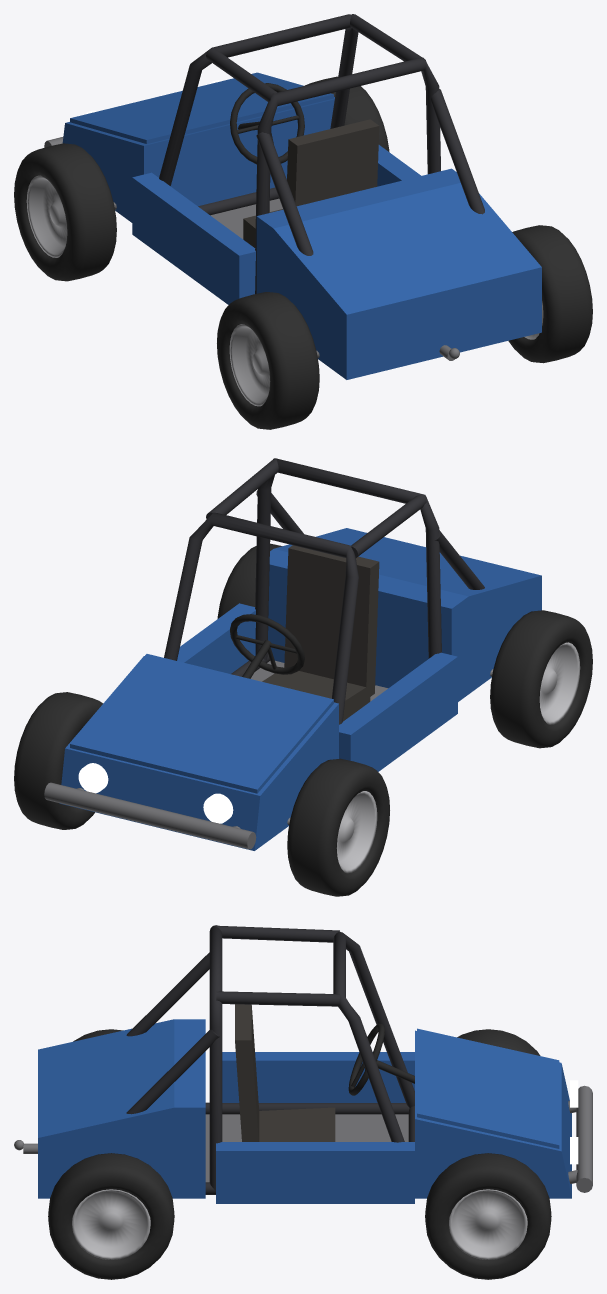
File: buggy.glb
The picture shows the model from 3 angles, top to bottom: view 1: azimuth 30°, elevation 25°; view 2: azimuth 150°, elevation 25°; view 3: azimuth 270°, elevation 25°; orthographic projection. The views are drawn at different scales.
Visible parts, largest first — view 1: carrosserie, chassis, roue_avant_gauche, roue_arriere_gauche, roue_arriere_droite, capot, siege_conducteur, volant, roue_avant_droite; view 2: carrosserie, capot, chassis, siege_conducteur, roue_arriere_gauche, roue_avant_gauche, roue_avant_droite, volant, roue_arriere_droite, phares; view 3: carrosserie, chassis, roue_arriere_droite, roue_avant_droite, capot, siege_conducteur, volant, roue_avant_gauche, phares.
Part boxes in pixels (bbox=[...]): carrosserie: bbox=[62, 97, 541, 379]; chassis: bbox=[44, 14, 484, 360]; roue_avant_gauche: bbox=[14, 143, 116, 281]; roue_arriere_gauche: bbox=[217, 292, 319, 429]; roue_arriere_droite: bbox=[508, 225, 592, 363]; capot: bbox=[70, 72, 333, 143]; siege_conducteur: bbox=[243, 119, 379, 247]; volant: bbox=[230, 83, 304, 164]; roue_avant_droite: bbox=[305, 76, 389, 151]; carrosserie: bbox=[59, 528, 541, 850]; capot: bbox=[70, 654, 333, 793]; chassis: bbox=[44, 458, 493, 849]; siege_conducteur: bbox=[262, 545, 379, 721]; roue_arriere_gauche: bbox=[490, 610, 592, 748]; roue_avant_gauche: bbox=[287, 758, 389, 896]; roue_avant_droite: bbox=[14, 692, 102, 829]; volant: bbox=[230, 614, 304, 678]; roue_arriere_droite: bbox=[217, 543, 282, 618]; phares: bbox=[78, 763, 233, 823]; carrosserie: bbox=[38, 1019, 571, 1203]; chassis: bbox=[14, 925, 592, 1194]; roue_arriere_droite: bbox=[48, 1153, 174, 1279]; roue_avant_droite: bbox=[425, 1153, 551, 1279]; capot: bbox=[417, 1028, 559, 1148]; siege_conducteur: bbox=[235, 1004, 335, 1141]; volant: bbox=[348, 1023, 414, 1095]; roue_avant_gauche: bbox=[457, 1029, 540, 1055]; phares: bbox=[570, 1080, 578, 1164].
Size of what is drawn, in the model's own units: 1.62 by 1.33 by 2.76.
